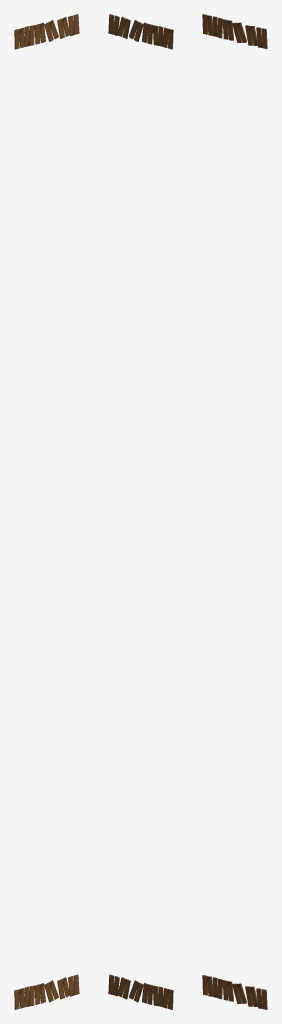
File: woods_to_road.fbx
3 renders of one model, left to right at view 1: azimuth 30°, elevation 25°; view 2: azimuth 150°, elevation 25°; view 3: azimuth 330°, elevation 25°, orthographic.
Visible parts, largest first — view 1: Cube.010; view 2: Cube.010; view 3: Cube.010.
Part boxes in pixels (x1,y1,x2,y2): Cube.010: (14,14,79,1009); Cube.010: (108,14,173,1009); Cube.010: (202,14,267,1009).
Bounding box in the file's own units: 701 × 10191 × 16.74.
